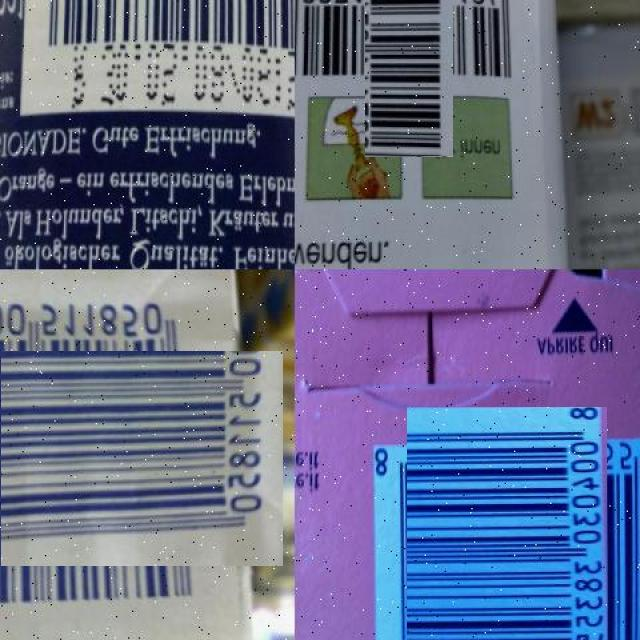Barcode: (0, 317, 250, 601), (391, 423, 624, 640), (23, 0, 295, 126), (330, 0, 488, 123)
